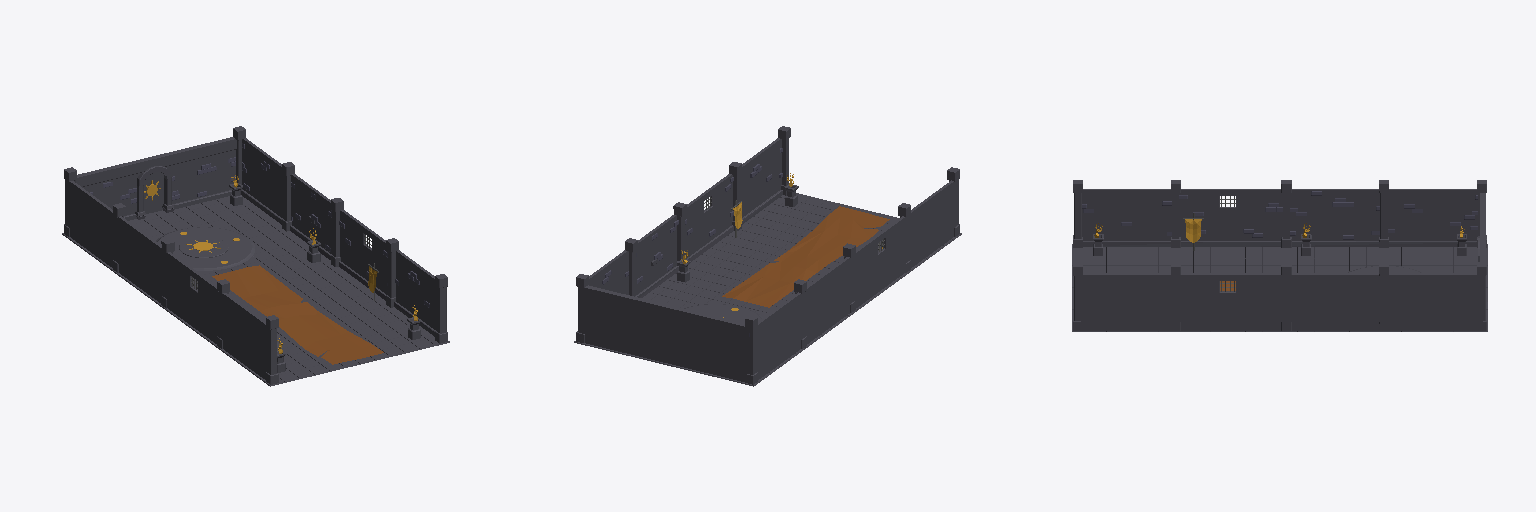
File: LightStone_Dungeon_Game_Level.obj
3 views of the same model, side by side, from view 1: azimuth 30°, elevation 25°; view 2: azimuth 150°, elevation 25°; view 3: azimuth 270°, elevation 25° (orthographic).
Visible parts, largest first — view 1: box1, box11, box13111, box1311, box12, rectangle1, cylinder1, box[number redacted], Object, cube112, cube1111, cube11 (+2 smaller); view 2: box1, box12, box11, box13111, rectangle1, box1311, cylinder1, box[number redacted]; view 3: box11, box1, box13111, box1311, box[number redacted], cube1111, cube111, cube13, cube112, cube1211.
Part boxes in pixels (bbox=[...]): box1: bbox=[66, 180, 267, 379]; box11: bbox=[241, 138, 436, 336]; box13111: bbox=[166, 267, 449, 386]; box1311: bbox=[62, 196, 338, 309]; box12: bbox=[65, 137, 236, 224]; rectangle1: bbox=[212, 265, 383, 364]; cylinder1: bbox=[156, 227, 254, 270]; box[number redacted]: bbox=[90, 143, 429, 307]; Object: bbox=[64, 166, 171, 236]; cube112: bbox=[435, 274, 447, 343]; cube1111: bbox=[266, 315, 278, 384]; cube11: bbox=[282, 162, 294, 231]; box1: bbox=[754, 180, 955, 379]; box12: bbox=[580, 285, 755, 381]; box11: bbox=[589, 138, 782, 297]; box13111: bbox=[688, 193, 961, 309]; rectangle1: bbox=[722, 206, 889, 307]; box1311: bbox=[574, 268, 857, 386]; cylinder1: bbox=[684, 304, 762, 323]; box[number redacted]: bbox=[602, 148, 782, 336]; box11: bbox=[1081, 273, 1482, 330]; box1: bbox=[1082, 189, 1477, 246]; box13111: bbox=[1072, 244, 1279, 331]; box1311: bbox=[1280, 244, 1487, 331]; box[number redacted]: bbox=[1082, 191, 1477, 239]; cube1111: bbox=[1073, 180, 1082, 247]; cube111: bbox=[1379, 180, 1388, 247]; cube13: bbox=[1281, 180, 1291, 247]; cube112: bbox=[1073, 262, 1082, 330]; cube1211: bbox=[1171, 180, 1180, 247].
Size of the model in its own units: 23.88 by 8.28 by 47.78.